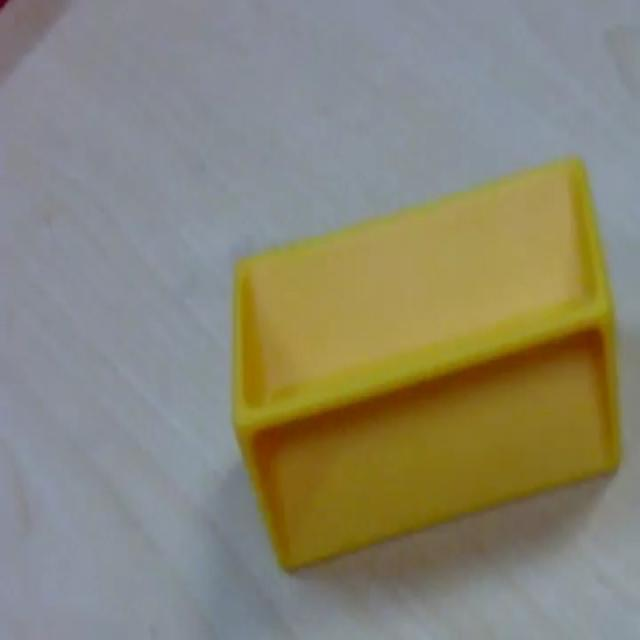yellow_block: (230, 152, 622, 571)
